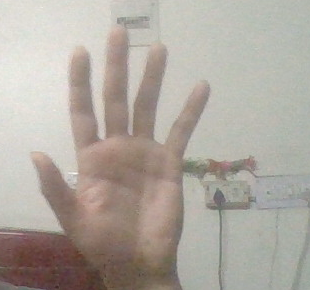move: (69, 28, 219, 290)
